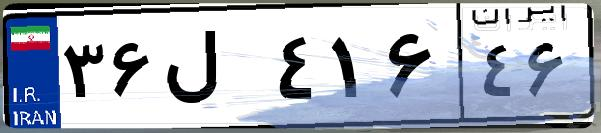1: (330, 28, 385, 110)
3: (57, 26, 110, 100)
4: (270, 28, 330, 110), (475, 38, 525, 113)
6: (385, 28, 445, 110), (525, 38, 570, 115), (110, 28, 158, 98)
ل: (158, 20, 270, 120)
